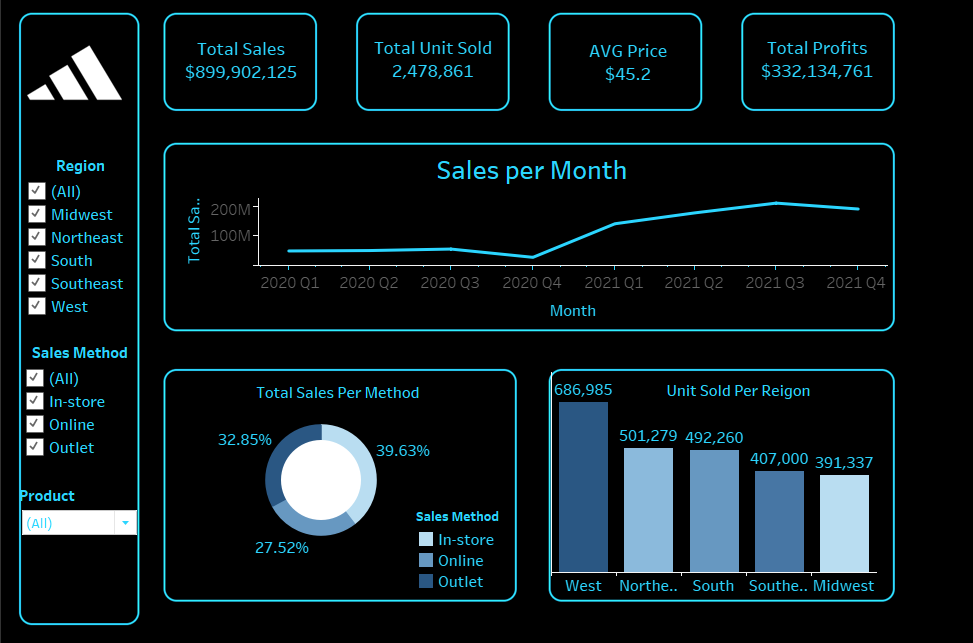

What the dashboard file says about the page in this screenshot:
{"tool":"tableau","page":{"name":"Dashboard 1","canvas":[1000,800],"ordinal":0},"visuals":[{"type":"image","param":"C:/Users/ehaba/OneDrive/Desktop/Untitled.png","box":[8,8,984,784]},{"type":"image","param":"C:/Users/ehaba/OneDrive/Desktop/adidas.png","box":[39,80,95,142]},{"type":"worksheet","title":"Total unit Sold card","mark":"Automatic","box":[364,86,163,103]},{"type":"worksheet","title":"Avg price per unit","mark":"Automatic","box":[559,87,163,108]},{"type":"worksheet","title":"Profit card","mark":"Automatic","box":[754,88,152,99]},{"type":"worksheet","title":"Total Sales Card","mark":"Automatic","box":[181,90,145,98]},{"type":"worksheet","title":"Time Series","mark":"Automatic","rows":["Total Sales"],"cols":["Invoice Date"],"box":[188,226,712,180]},{"type":"filter","title":"Donut","param":"[federated.0kua2811y6gf0z12ia11a0ug53zi].[none:Region:nk]","box":[33,233,119,163]},{"type":"filter","title":"Donut","param":"[federated.0kua2811y6gf0z12ia11a0ug53zi].[none:Sales Method:nk]","box":[31,420,122,120]},{"type":"worksheet","title":"Donut","mark":"Pie","rows":["Calculation_1934577576568246277","Calculation_1934577576568270855"],"box":[191,449,284,218]},{"type":"worksheet","title":"Bar","mark":"Automatic","rows":["Units Sold"],"cols":["Region"],"box":[563,450,326,225]},{"type":"text","box":[675,453,151,30]},{"type":"text","box":[265,455,170,30]},{"type":"filter","title":"Donut","param":"[federated.0kua2811y6gf0z12ia11a0ug53zi].[none:Product:nk]","box":[31,563,121,101]},{"type":"legend","title":"Donut","param":"[federated.0kua2811y6gf0z12ia11a0ug53zi].[none:Sales Method:nk]","box":[428,585,140,85]}]}

Visuals, with their boxes on the page's 1000x800 design canvas (x1, y1, x2, y2). These are canvas units, not pixel positions in the 973x643 screenshot, which may show the page scaled, cropped or inside an application window:
image: 8 8 992 792
image: 39 80 134 222
"Total unit Sold card" worksheet: 364 86 527 189
"Avg price per unit" worksheet: 559 87 722 195
"Profit card" worksheet: 754 88 906 187
"Total Sales Card" worksheet: 181 90 326 188
"Time Series" worksheet: 188 226 900 406
"Donut" filter: 33 233 152 396
"Donut" filter: 31 420 153 540
"Donut" worksheet (Pie marks): 191 449 475 667
"Bar" worksheet: 563 450 889 675
text: 675 453 826 483
text: 265 455 435 485
"Donut" filter: 31 563 152 664
"Donut" legend: 428 585 568 670
